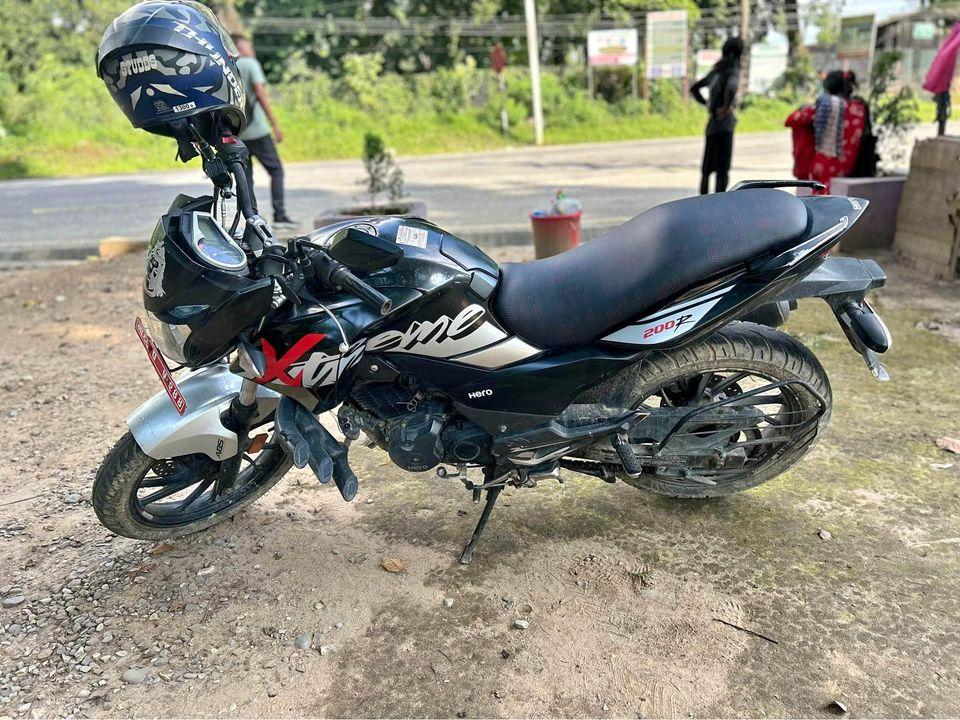bike: (72, 88, 893, 557)
